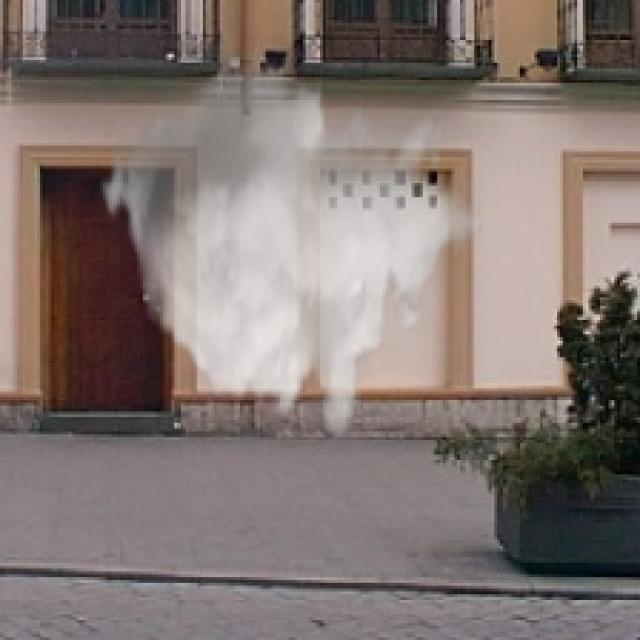smoke: (97, 37, 483, 443)
